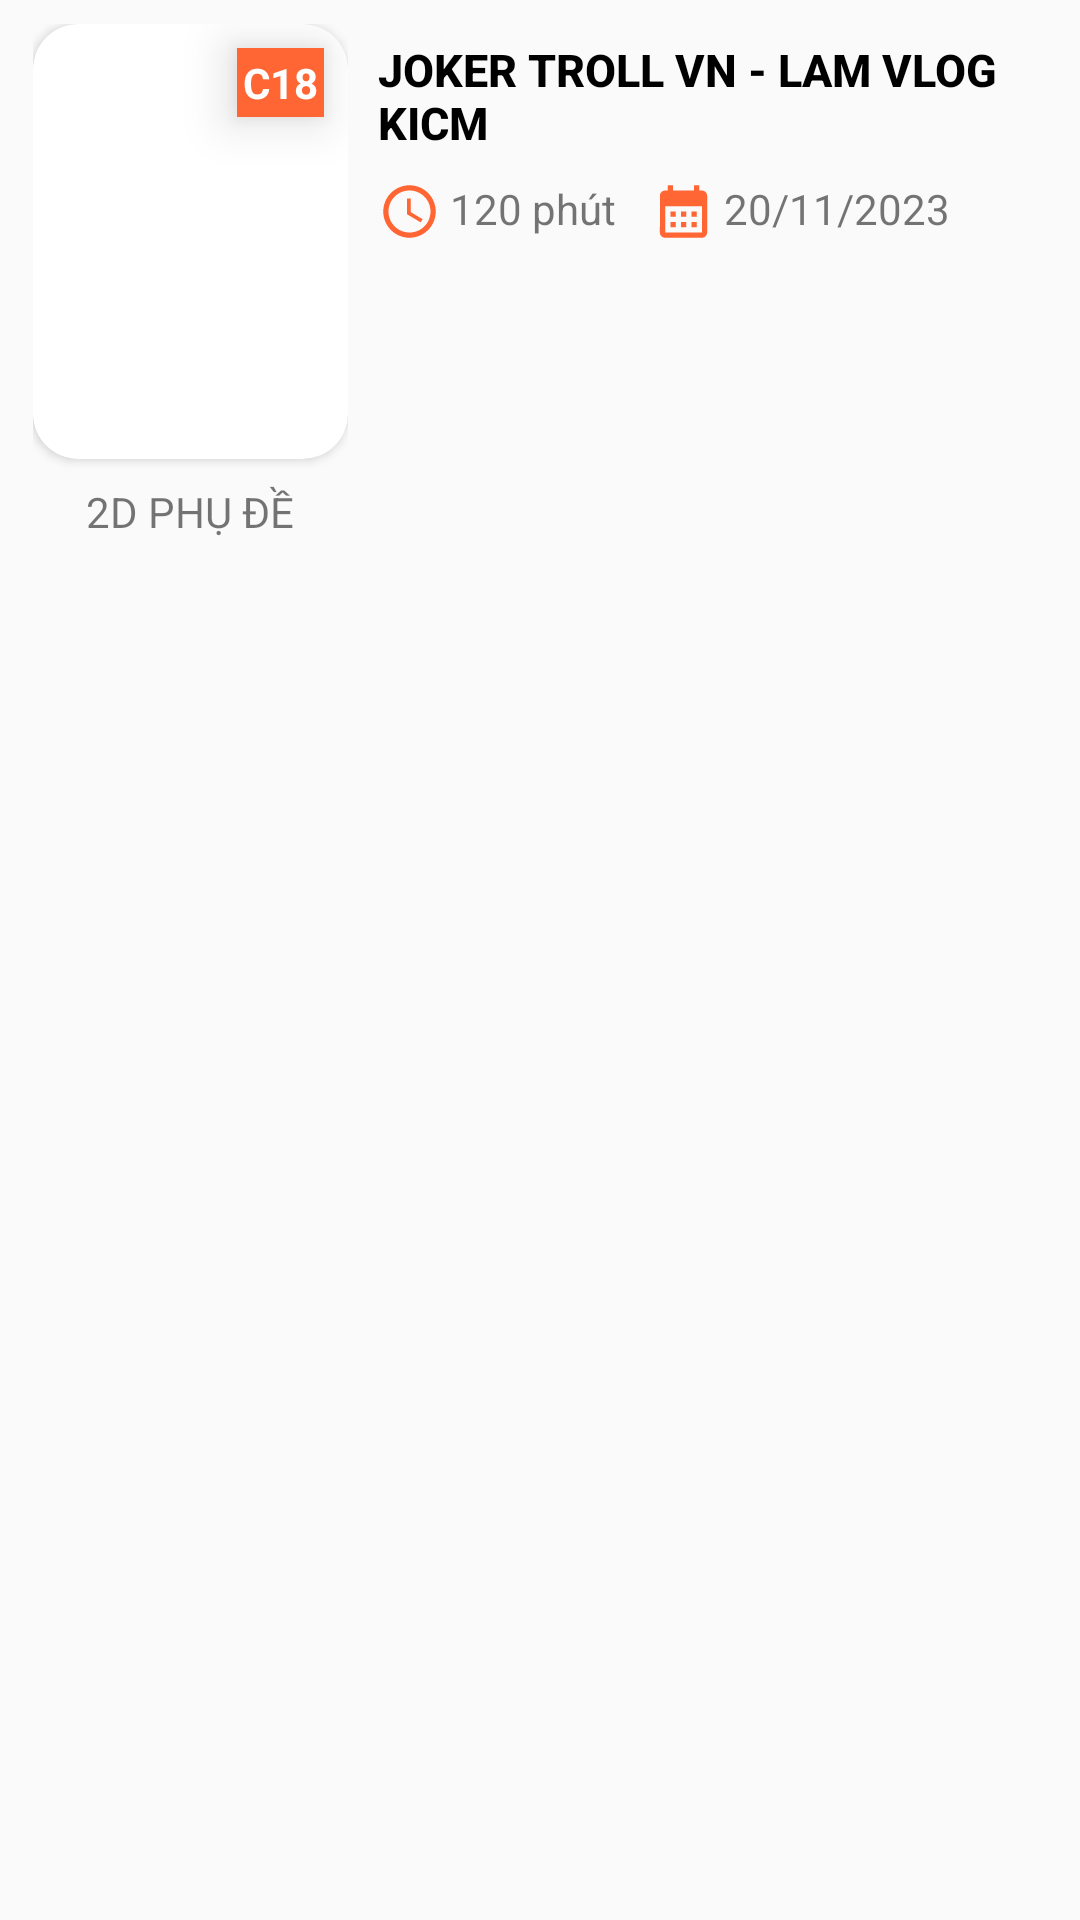

Where to tap for icons on this 1080 x 1920 app screen, as (x=x, y=y):
access time: (x=409, y=211)
calendar month: (x=683, y=211)
